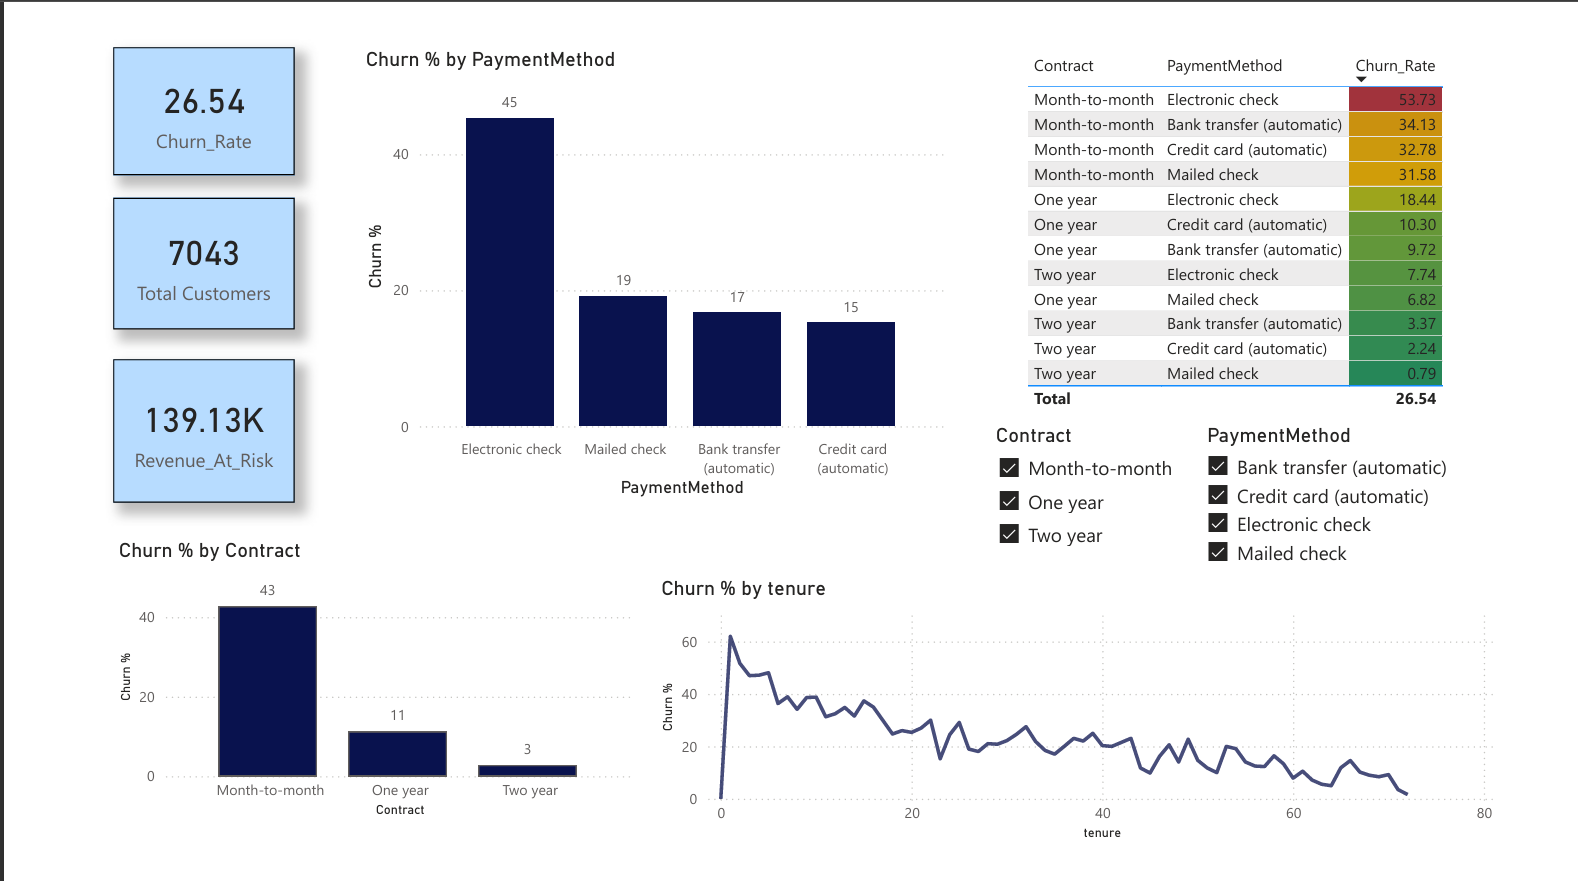

The dashboard page shown, as its layout file describes it:
{"tool":"powerbi","page":{"name":"Page 1","canvas":[1280,720],"ordinal":0},"visuals":[{"type":"card","title":"Churn Rate","fields":{"Values":["datachurn.Churn_Rate"]},"box":[68,35.9,153.1,107.7],"z":0},{"type":"card","fields":{"Values":["datachurn.Total Customers"]},"box":[68,162.5,153.1,111.5],"z":1000},{"type":"card","fields":{"Values":["datachurn.Revenue_At_Risk"]},"box":[68,298.6,153.1,120.9],"z":2000},{"type":"clusteredColumnChart","fields":{"Category":["datachurn.Contract"],"Y":["datachurn.Churn_Rate"]},"box":[68,449.8,444.1,240],"z":3000},{"type":"clusteredColumnChart","fields":{"Y":["datachurn.Churn_Rate"],"Category":["datachurn.PaymentMethod"]},"box":[275.9,35.9,497,383.6],"z":4000},{"type":"tableEx","fields":{"Values":["datachurn.Contract","datachurn.PaymentMethod","datachurn.Churn_Rate"]},"box":[833.4,35.9,389.3,317.5],"z":5000},{"type":"listSlicer","fields":{"Values":["datachurn.Contract"]},"box":[806.9,353.4,162.5,257],"z":6000},{"type":"listSlicer","fields":{"Values":["datachurn.PaymentMethod"]},"box":[984.6,353.4,253.2,223],"z":7000},{"type":"lineChart","fields":{"Category":["datachurn.tenure"],"Y":["datachurn.Churn_Rate"]},"box":[525.4,481.9,712.4,226.8],"z":8000}]}

Visuals, with their boxes in screenshot pixels (x1, y1, x2, y2), scaled from the page's 1280x720 canvas onto the 1578x881 screenshot:
"Churn Rate" card: box(84, 44, 273, 176)
card - datachurn.Total Customers: box(84, 199, 273, 335)
card - datachurn.Revenue_At_Risk: box(84, 365, 273, 513)
clusteredColumnChart - datachurn.Contract x datachurn.Churn_Rate: box(84, 550, 631, 844)
clusteredColumnChart - datachurn.Churn_Rate x datachurn.PaymentMethod: box(340, 44, 953, 513)
tableEx - datachurn.Contract x datachurn.PaymentMethod: box(1027, 44, 1507, 432)
listSlicer - datachurn.Contract: box(995, 432, 1195, 747)
listSlicer - datachurn.PaymentMethod: box(1214, 432, 1526, 705)
lineChart - datachurn.tenure x datachurn.Churn_Rate: box(648, 590, 1526, 867)
